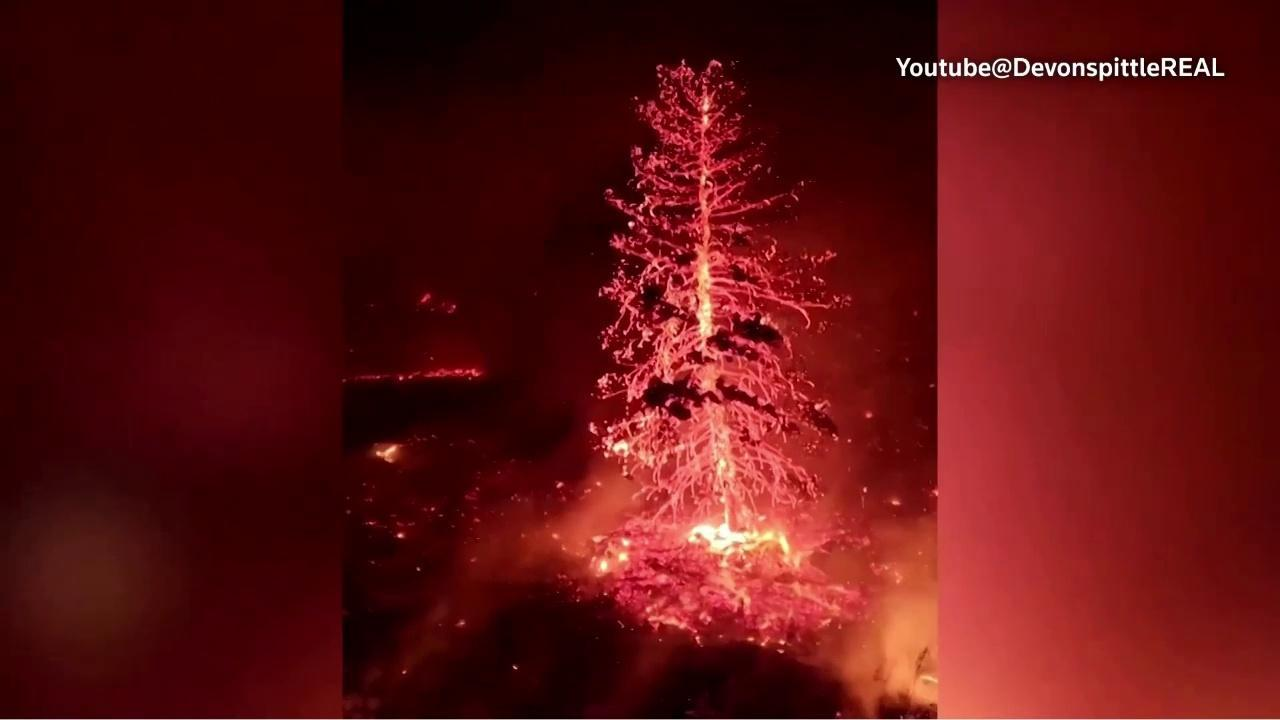fire: (578, 53, 872, 654), (352, 364, 481, 383), (368, 441, 400, 465), (413, 292, 431, 304), (440, 302, 457, 314), (887, 498, 902, 509), (554, 478, 567, 489), (929, 486, 938, 498), (454, 618, 466, 627), (394, 532, 405, 541), (364, 519, 377, 526), (553, 530, 560, 540)
smoke: (344, 6, 939, 720)
